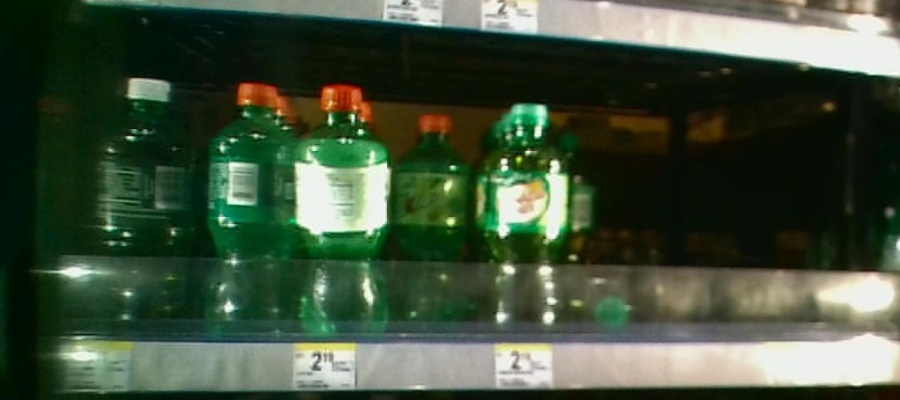bottle: (90, 68, 197, 333), (297, 76, 390, 343), (201, 74, 296, 330), (484, 88, 568, 338), (393, 97, 473, 333), (568, 131, 593, 292)
